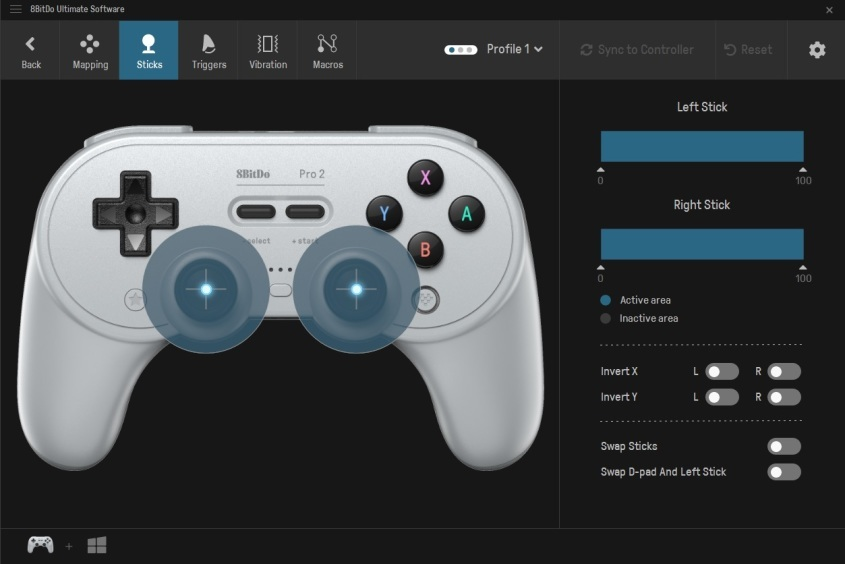controller: (16, 122, 545, 473)
